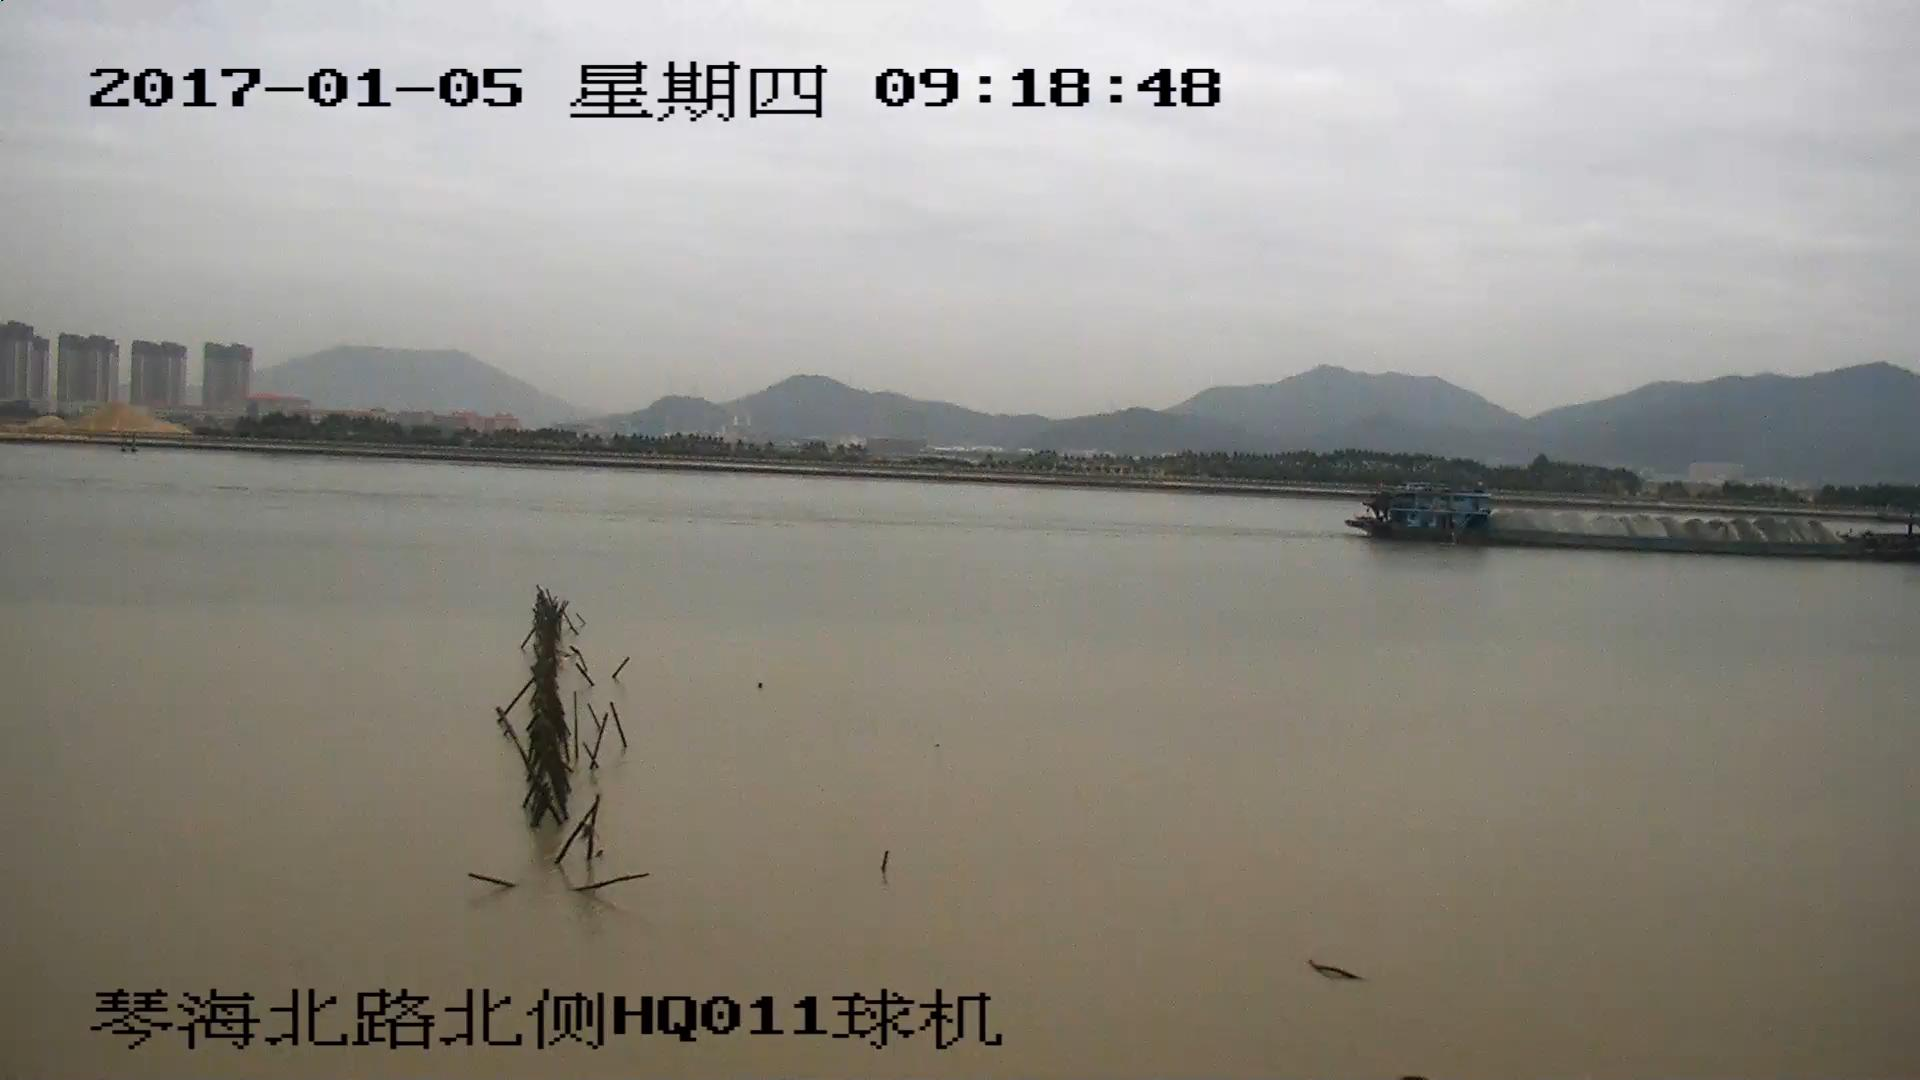ore carrier: (1354, 488, 1920, 560)
